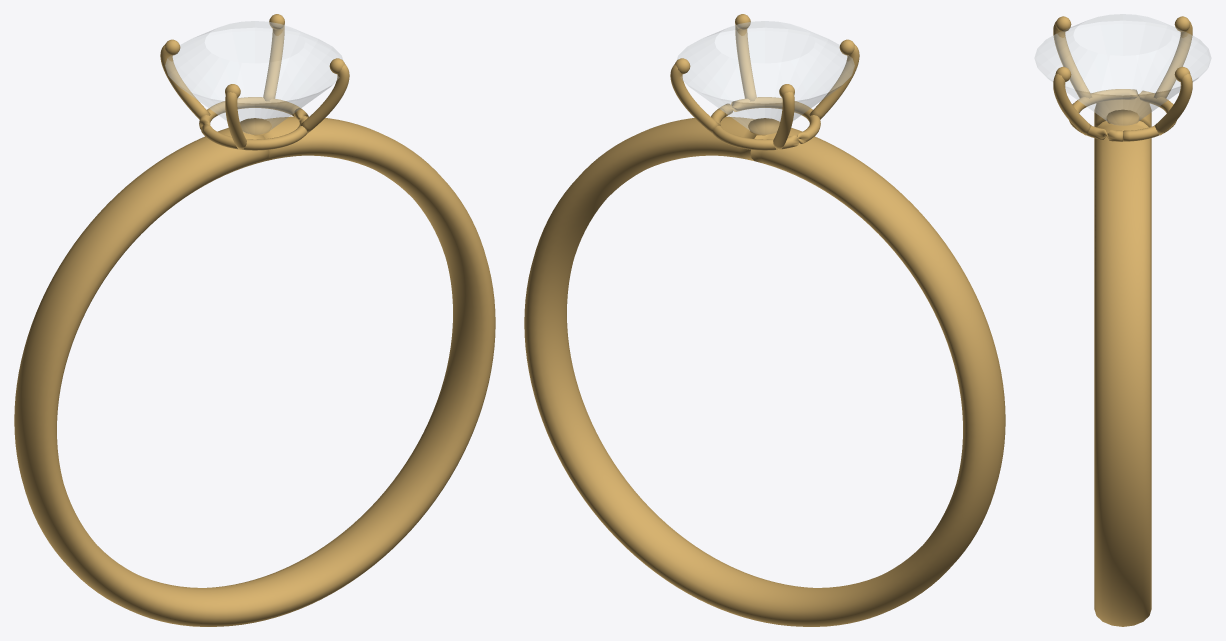
The model's file is settings-rounded-prong.glb.
3 renders of one model, left to right at view 1: azimuth 30°, elevation 25°; view 2: azimuth 150°, elevation 25°; view 3: azimuth 270°, elevation 25°, orthographic.
Parts seen in each view (by area): view 1: Band, Gem, Lower gallery, Prong.001, Prong.003, Prong, Prong.002; view 2: Band, Gem, Lower gallery, Prong.002, Prong, Prong.003, Prong.001; view 3: Band, Gem, Lower gallery, Prong.001, Prong.002, Prong.003, Prong, Head stem.
Part boxes in pixels (x1,y1,x2,y2): Band: (14,116,495,626); Gem: (165,21,342,134); Lower gallery: (199,97,308,150); Prong.001: (160,45,210,119); Prong.003: (299,64,349,133); Prong: (263,25,284,101); Prong.002: (225,92,246,149); Band: (524,116,1005,626); Gem: (677,21,854,134); Lower gallery: (711,97,820,150); Prong.002: (809,45,859,119); Prong: (670,64,720,133); Prong.003: (735,25,756,101); Prong.001: (773,92,794,149); Band: (1094,97,1151,626); Gem: (1034,14,1211,125); Lower gallery: (1069,89,1176,141); Prong.001: (1154,22,1192,98); Prong.002: (1053,22,1091,98); Prong.003: (1053,73,1091,135); Prong: (1154,74,1192,135); Head stem: (1106,109,1139,124).
Size of the model in its own units: 19.6 by 22.94 by 6.5.
